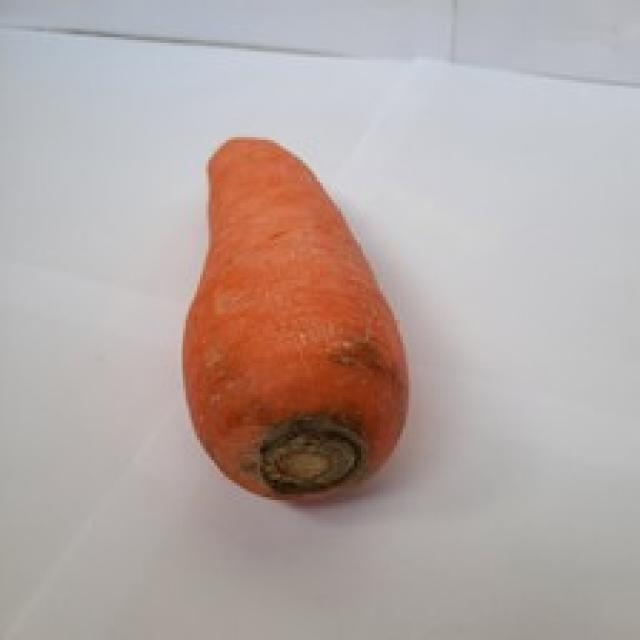carrot: (181, 133, 412, 511)
